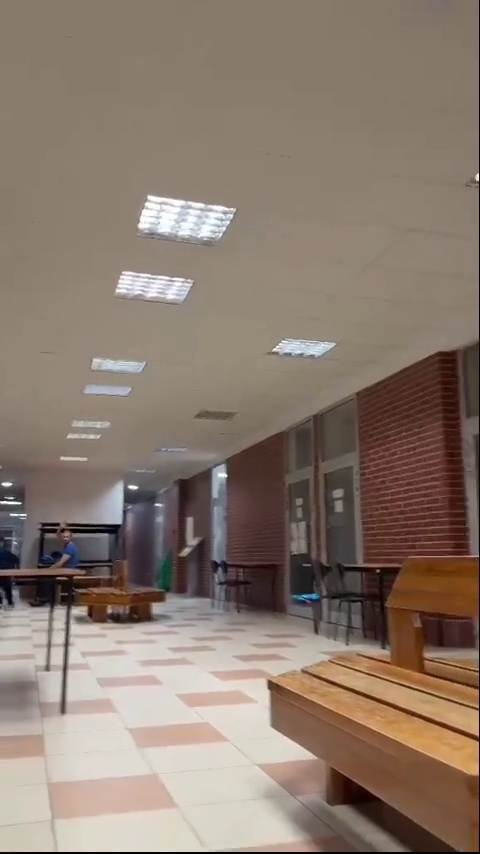drone: (292, 591, 320, 606)
no vest: (41, 523, 77, 575)
